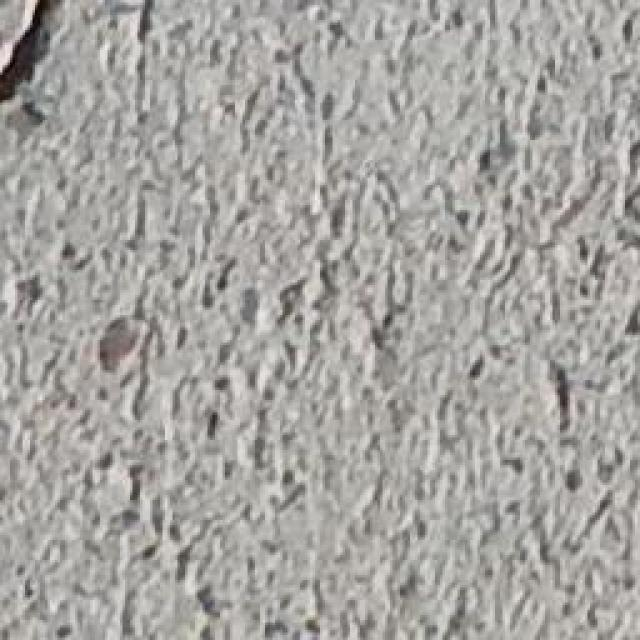concrete-crack: (0, 3, 68, 115)
